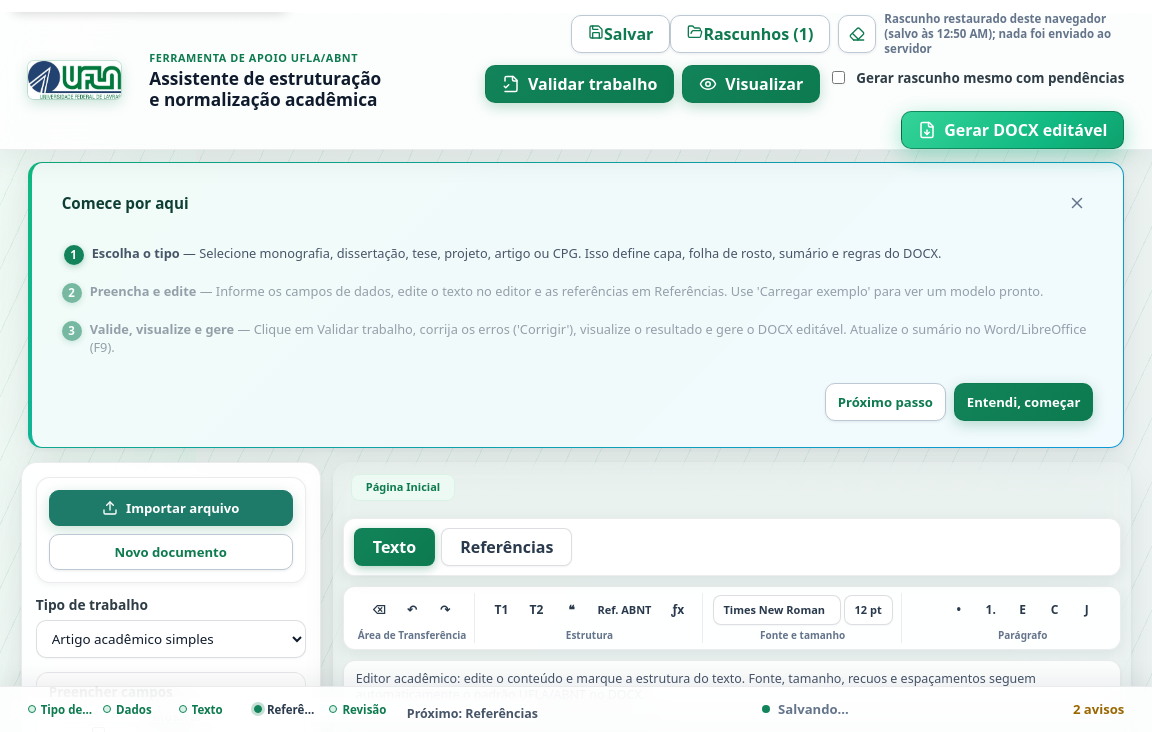
Test case: fluxo de autosave e restauração (App) › clique em Limpar rascunho atualiza UI imediatamente
The image size is (1152, 732).
What coordinates should you click on to do the following:
click the button named "limpar rascunho"
I would click on:
 (857, 34)
Its box is [838,16,876,54].
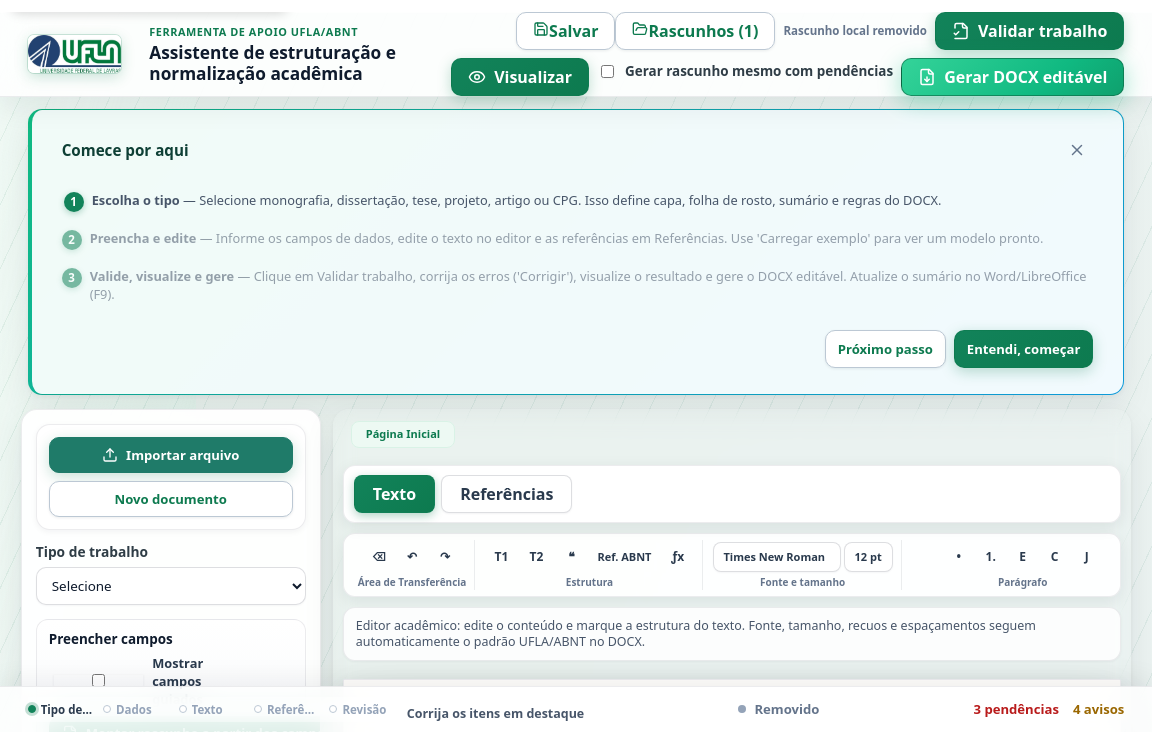
Now the text "Rascunho local removido" is shown, box [784,24,927,38]
